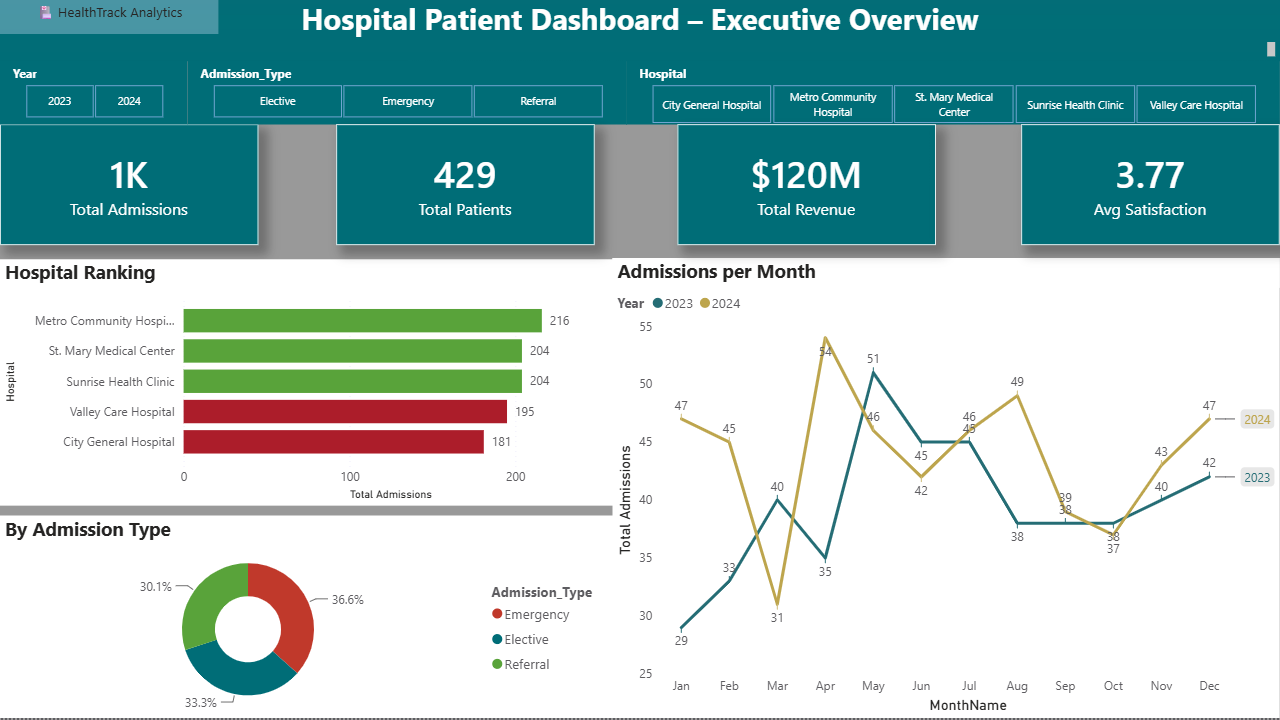

The dashboard page shown, as its layout file describes it:
{"tool":"powerbi","page":{"name":"Executive Overview","canvas":[1280,720],"ordinal":0},"visuals":[{"type":"textbox","title":"Hospital Patient Dashboard – Executive Overview","box":[0,0,1280.2,63.4],"z":0},{"type":"cardVisual","fields":{"Data":["_Measures.Total Admissions"]},"box":[0,126.7,258.2,120.6],"z":1000},{"type":"lineChart","title":"Admissions per Month","fields":{"Category":["DimDate.MonthName"],"Y":["_Measures.Total Admissions"],"Series":["DimDate.Year"]},"box":[612.9,260.6,667.2,459.7],"z":2000},{"type":"donutChart","title":"By Admission Type","fields":{"Y":["_Measures.Total Admissions"],"Category":["Admissions.Admission_Type"]},"box":[0,517,613.4,203],"z":3000},{"type":"textbox","box":[0,0,218.4,36.2],"z":4000},{"type":"clusteredBarChart","title":"Hospital Ranking","fields":{"Category":["Admissions.Hospital"],"Y":["_Measures.Total Admissions"]},"box":[0,260.6,613.4,246.2],"z":5000},{"type":"slicer","fields":{"Values":["DimDate.Year"]},"box":[0,62.7,187,63.9],"z":6000},{"type":"slicer","fields":{"Values":["Admissions.Admission_Type"]},"box":[187,62.7,439.1,63.9],"z":7000},{"type":"slicer","fields":{"Values":["Admissions.Hospital"]},"box":[626.1,62.7,653.9,63.9],"z":8000},{"type":"cardVisual","fields":{"Data":["_Measures.Total Patients"]},"box":[336.6,126.7,258.2,120.6],"z":9000},{"type":"cardVisual","fields":{"Data":["_Measures.Avg Satisfaction"]},"box":[1021.9,126.7,258.2,120.6],"z":10000},{"type":"cardVisual","fields":{"Data":["_Measures.Total Revenue"]},"box":[678,126.7,258.2,120.6],"z":11000}]}

Visuals, with their boxes on the page's 1280x720 design canvas (x1, y1, x2, y2). These are canvas units, not pixel positions in the 1280x720 screenshot, which may show the page scaled, cropped or inside an application window:
"Hospital Patient Dashboard – Executive Overview" textbox: (0, 0, 1280, 63)
cardVisual - _Measures.Total Admissions: (0, 127, 258, 247)
"Admissions per Month" lineChart: (613, 261, 1280, 720)
"By Admission Type" donutChart: (0, 517, 613, 720)
textbox: (0, 0, 218, 36)
"Hospital Ranking" clusteredBarChart: (0, 261, 613, 507)
slicer - DimDate.Year: (0, 63, 187, 127)
slicer - Admissions.Admission_Type: (187, 63, 626, 127)
slicer - Admissions.Hospital: (626, 63, 1280, 127)
cardVisual - _Measures.Total Patients: (337, 127, 595, 247)
cardVisual - _Measures.Avg Satisfaction: (1022, 127, 1280, 247)
cardVisual - _Measures.Total Revenue: (678, 127, 936, 247)
